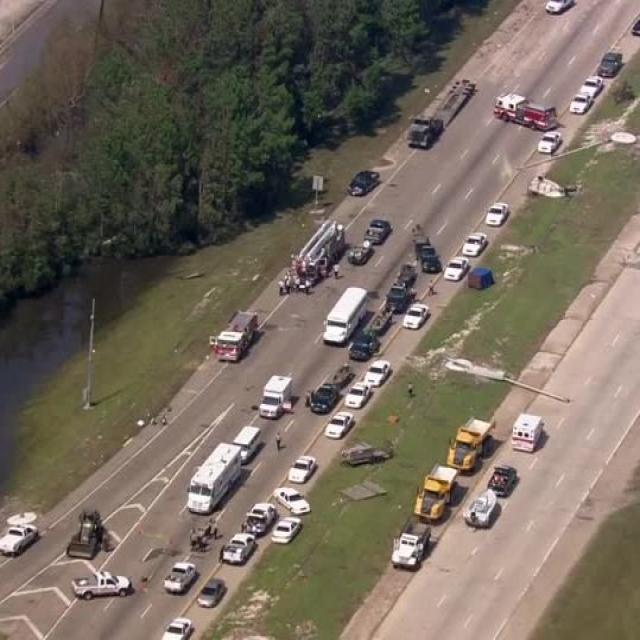traffic_incident: (216, 501, 279, 568)
